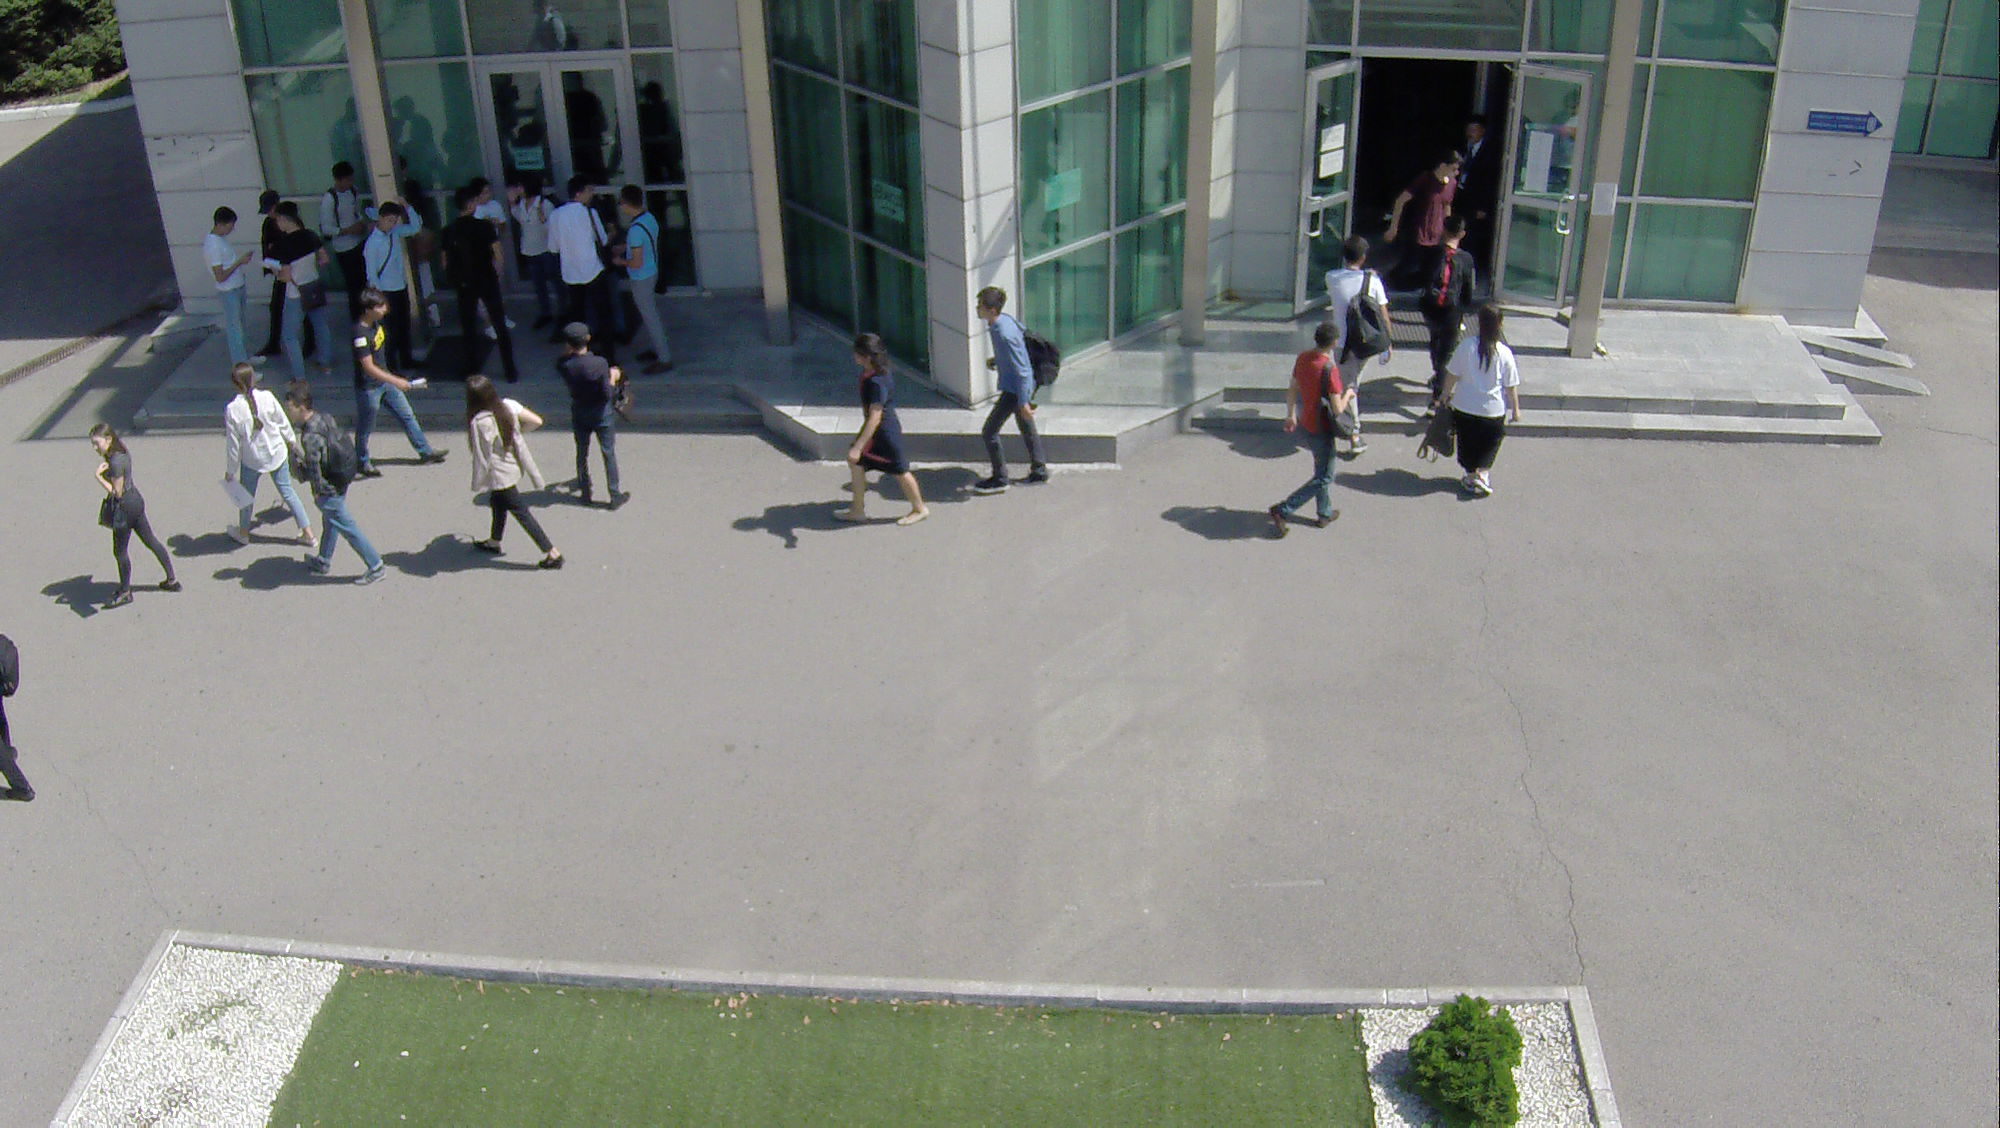person: (814, 320, 936, 529), (455, 364, 563, 578), (74, 410, 185, 612), (959, 280, 1061, 500), (283, 379, 388, 586), (212, 357, 309, 557), (1263, 324, 1352, 540), (1431, 290, 1521, 504), (347, 283, 444, 481), (555, 317, 639, 524), (443, 184, 520, 384), (1317, 230, 1401, 412), (367, 188, 428, 379), (621, 168, 677, 377), (548, 172, 616, 324), (272, 199, 330, 377), (505, 175, 573, 324), (199, 202, 259, 361), (1396, 145, 1463, 264), (1424, 208, 1471, 367), (321, 151, 361, 280), (463, 165, 503, 222)
